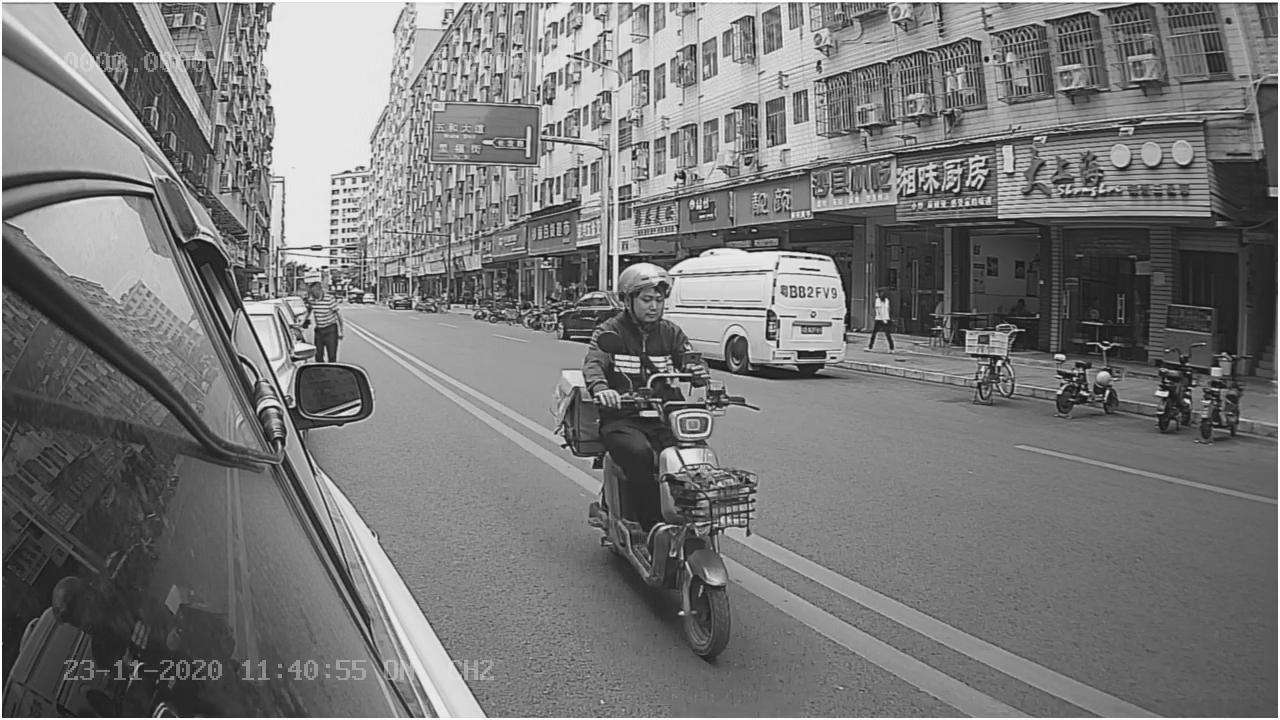person: (578, 259, 710, 386)
